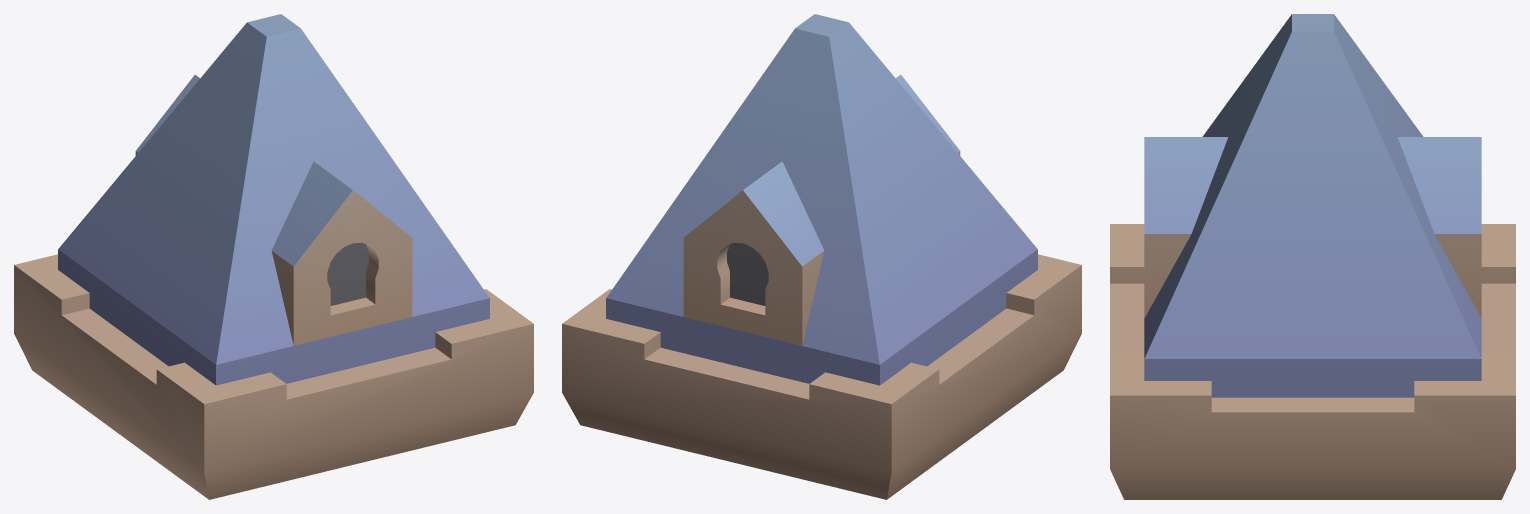
File: tower-square-top-roof-high-windows.glb
3 renders of one model, left to right at view 1: azimuth 30°, elevation 25°; view 2: azimuth 150°, elevation 25°; view 3: azimuth 270°, elevation 25°, orthographic. The views are drawn at different scales.
Visible parts, largest first — view 1: tower-square-top-roof-high-windows; view 2: tower-square-top-roof-high-windows; view 3: tower-square-top-roof-high-windows.
Part boxes in pixels (box(x1,y1,x2,y2)): tower-square-top-roof-high-windows: box(14, 14, 533, 499); tower-square-top-roof-high-windows: box(562, 14, 1081, 499); tower-square-top-roof-high-windows: box(1110, 14, 1515, 499).
Size of the model in its own units: 1 by 1.08 by 1.
